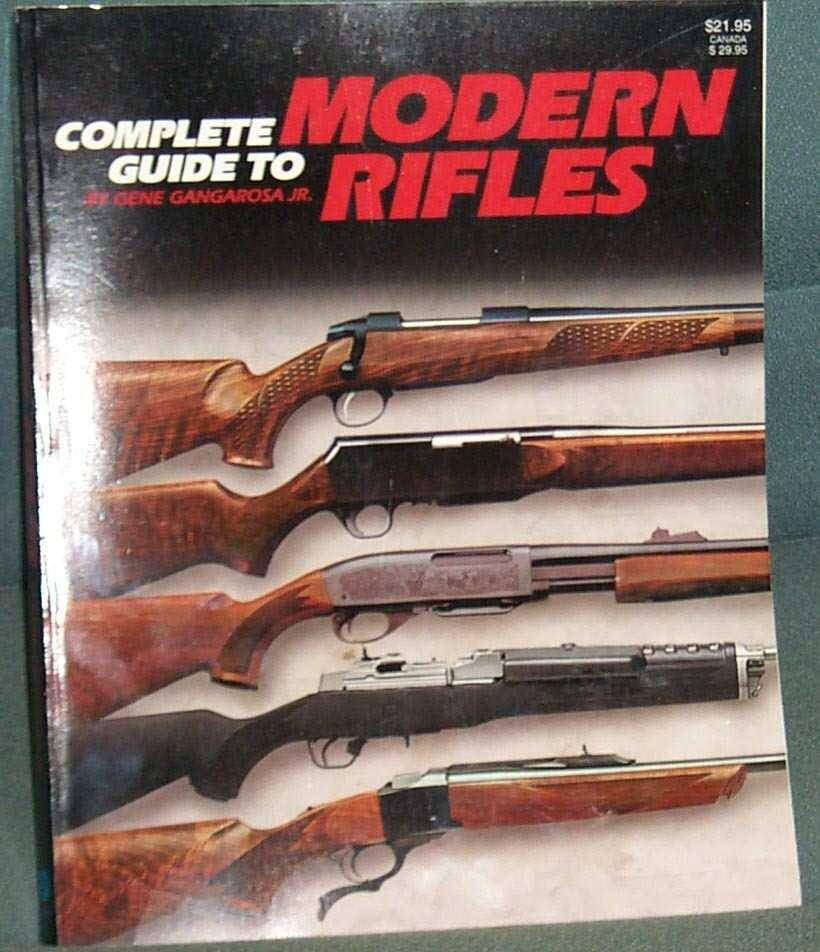heavyweapon: (73, 261, 763, 517), (21, 738, 801, 952), (50, 519, 780, 724), (61, 419, 771, 561), (48, 629, 793, 756)
